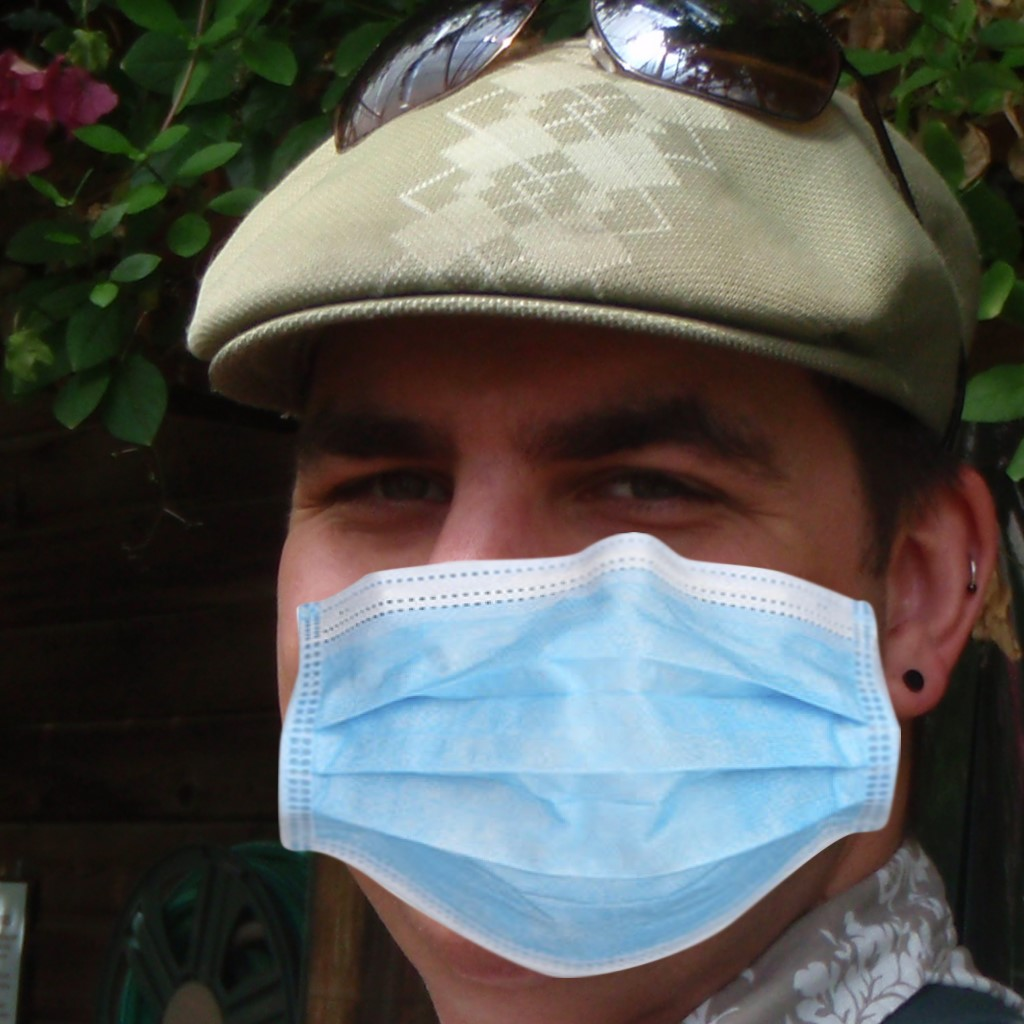con_mascara: (285, 248, 906, 969)
